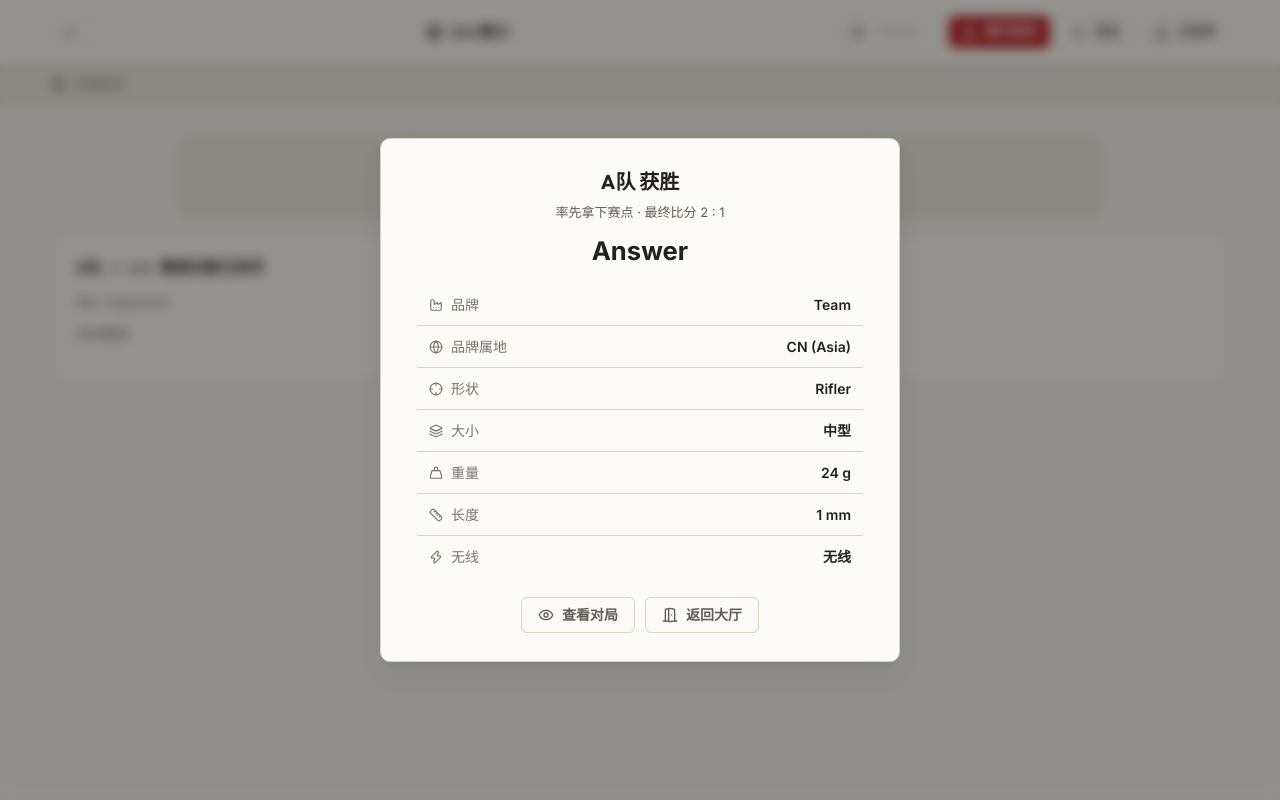
Scenario: MultiRoom replay › replays 2v2 rounds in brand boards with actor labels and brand scores
Click the button "查看对局" at (578, 615), box [521,597,635,633]
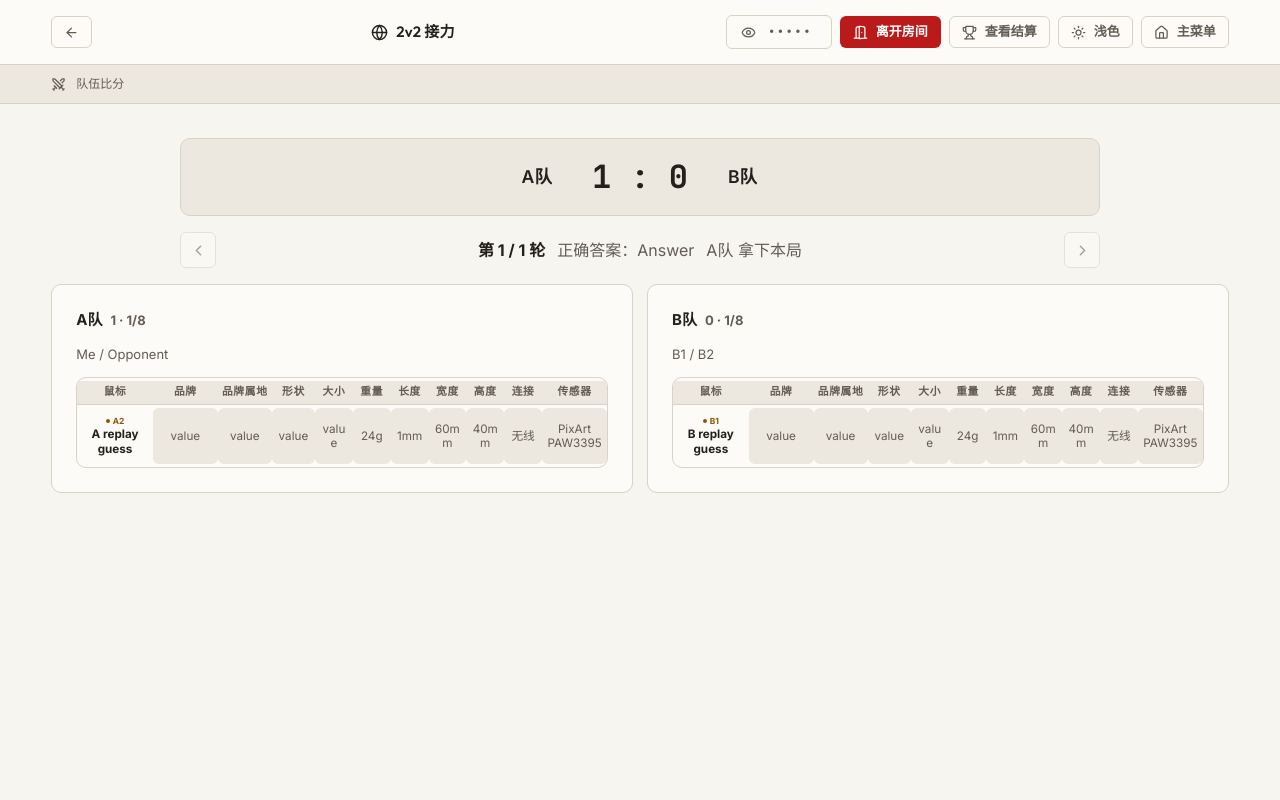
Now the text "A队 拿下本局" is shown, box [706,238,802,262]
Now the text "A replay guess" is shown, box [92,427,139,456]
Now the text "B replay guess" is shown, box [688,427,734,456]
